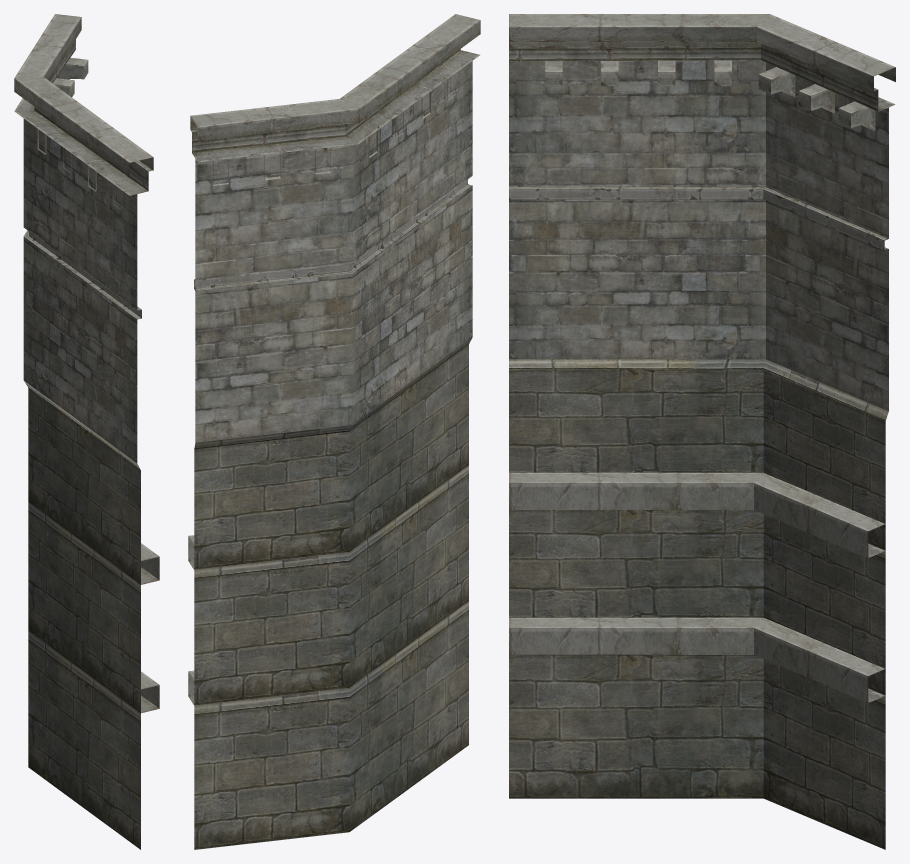
File: bg_lut_lucastle_wall03c_sm_lkj.FBX
3 views of the same model, side by side, from view 1: azimuth 30°, elevation 25°; view 2: azimuth 150°, elevation 25°; view 3: azimuth 270°, elevation 25° (orthographic). The views are drawn at different scales.
Parts seen in each view (by area): view 1: bg_lut_lucastle_wall03c_sm_lkj; view 2: bg_lut_lucastle_wall03c_sm_lkj; view 3: bg_lut_lucastle_wall03c_sm_lkj.
Part boxes in pixels (x1,y1,x2,y2): bg_lut_lucastle_wall03c_sm_lkj: (14, 14, 159, 849); bg_lut_lucastle_wall03c_sm_lkj: (188, 14, 480, 849); bg_lut_lucastle_wall03c_sm_lkj: (509, 14, 895, 849).
Size of the model in its own units: 238 by 1330 by 599.
